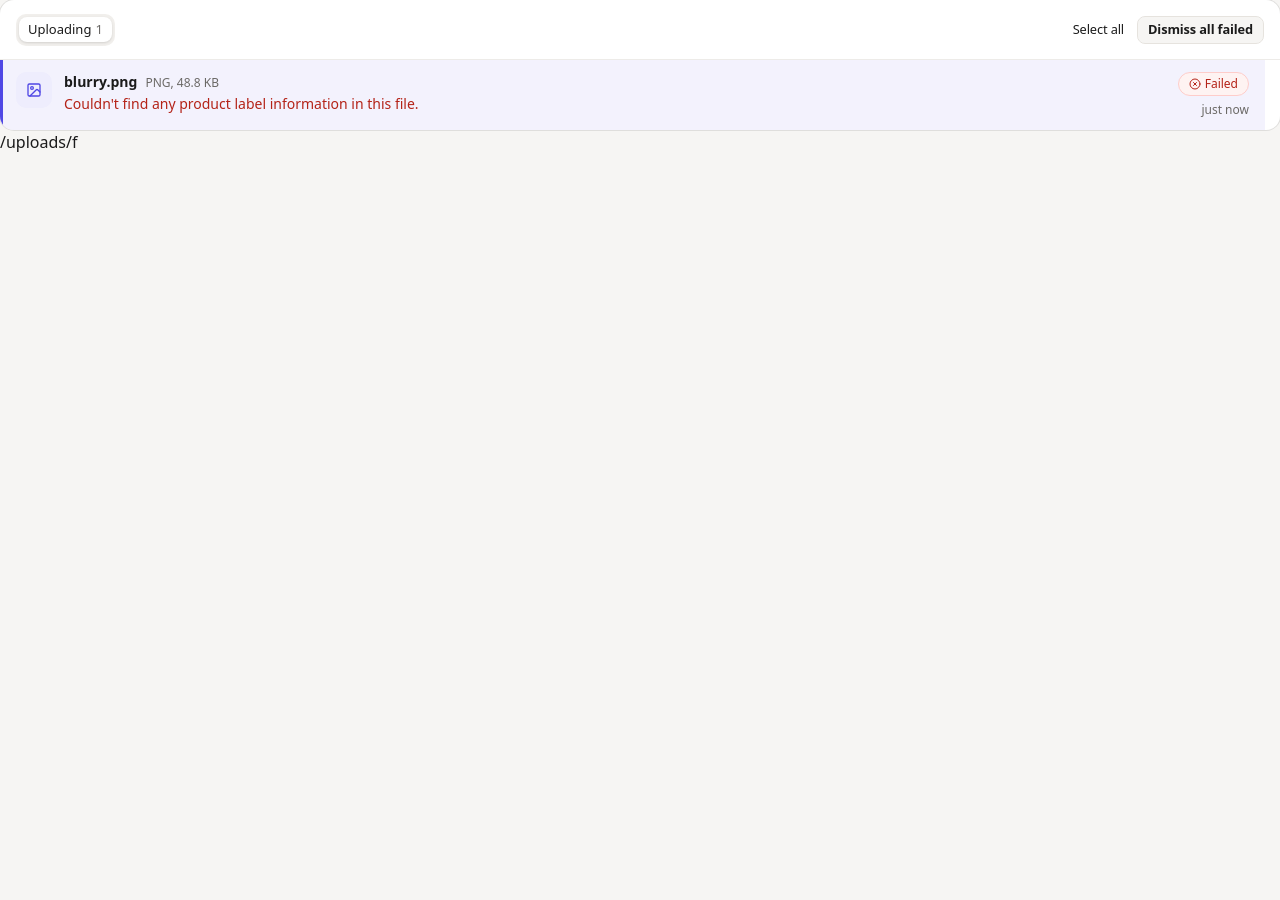
Test: YourUploads — dismissing failures › closes the open upload's panel when it's among those dismissed
Click the button "Dismiss all failed". click: (1200, 30)
box: [1137, 16, 1264, 44]
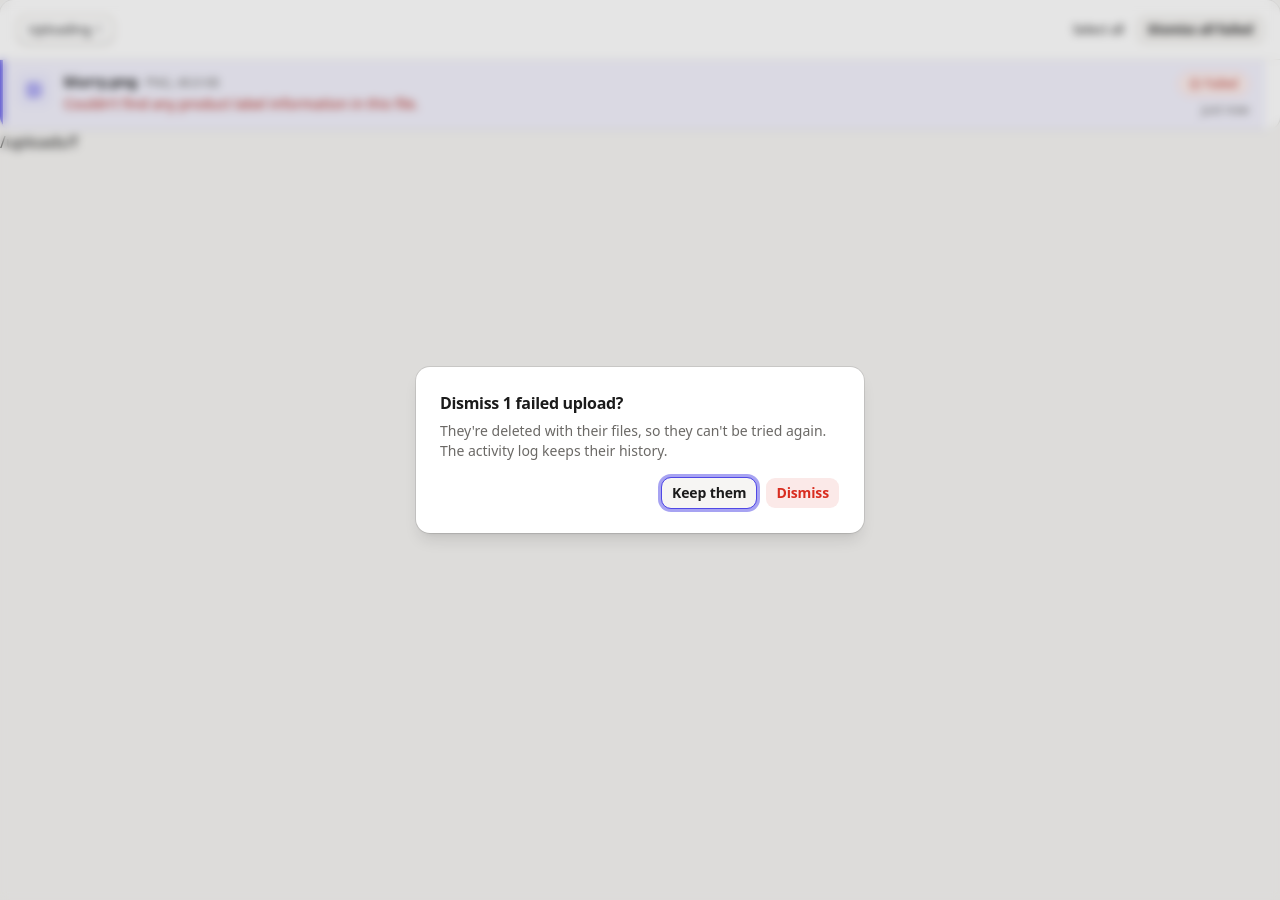
Click the button "Dismiss". click: (803, 493)
box: [766, 477, 840, 509]
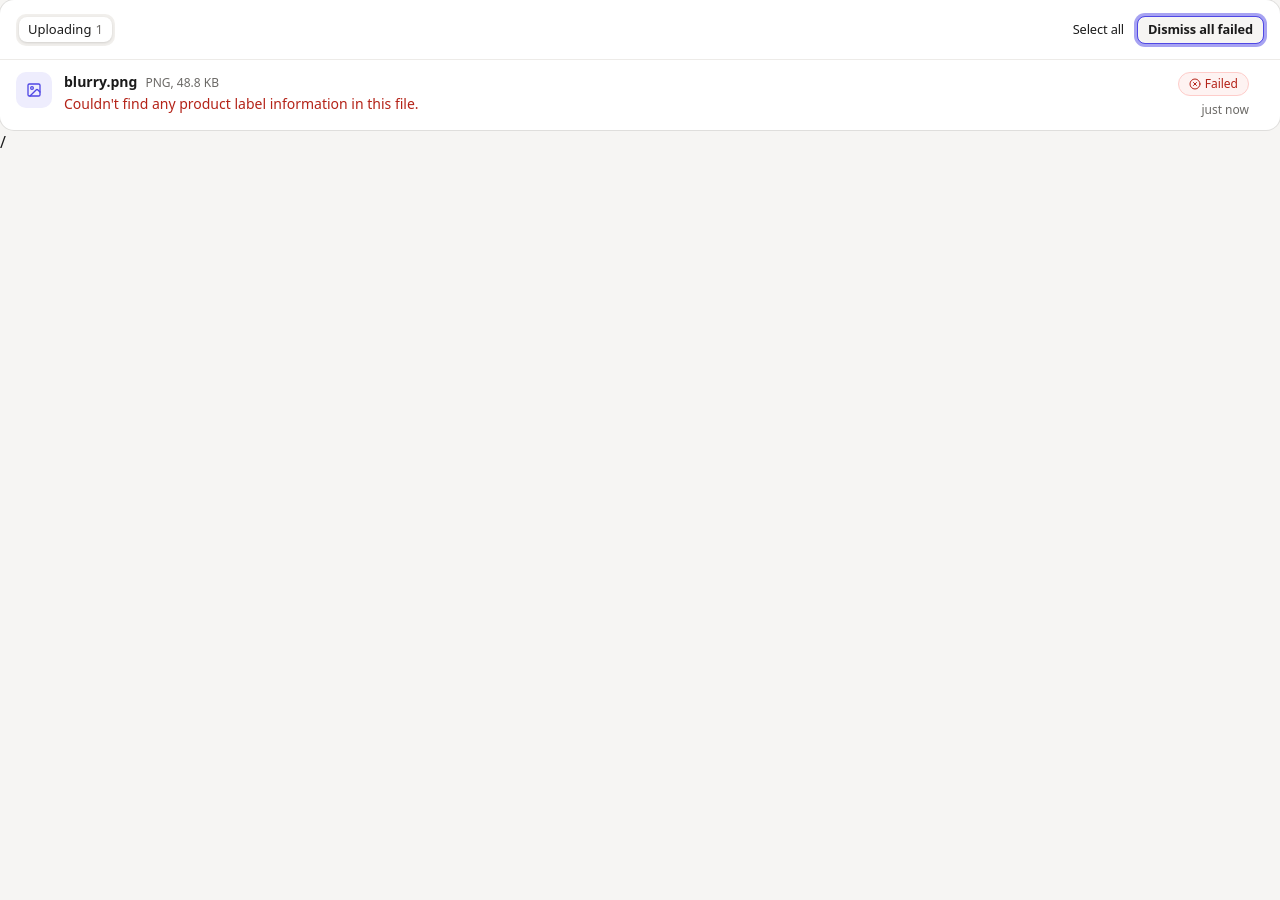
Expected: the text named "Location" reads "/", [0, 131, 6, 153]
